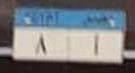8: (35, 34, 48, 57)
alif: (90, 33, 102, 58)
